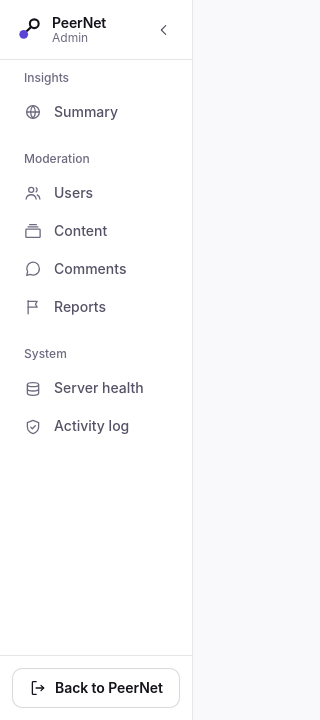
Test: AdminSidebar › keeps the expand control reachable after collapsing
Click the button named "collapse navigation" at (164, 30), box [148, 14, 180, 46]
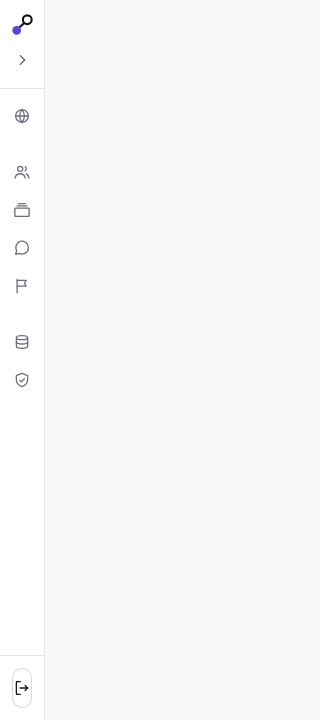
Now the button named "expand navigation" is shown
Now the button named "expand navigation" is collapsed
Click the button named "expand navigation" at (22, 60), box [6, 44, 38, 76]
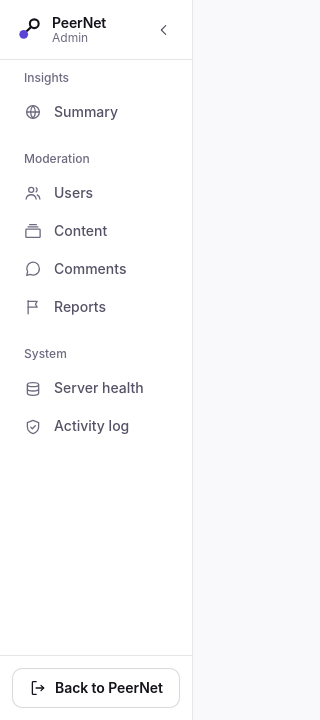
Now the button named "collapse navigation" is shown, box [148, 14, 180, 46]
